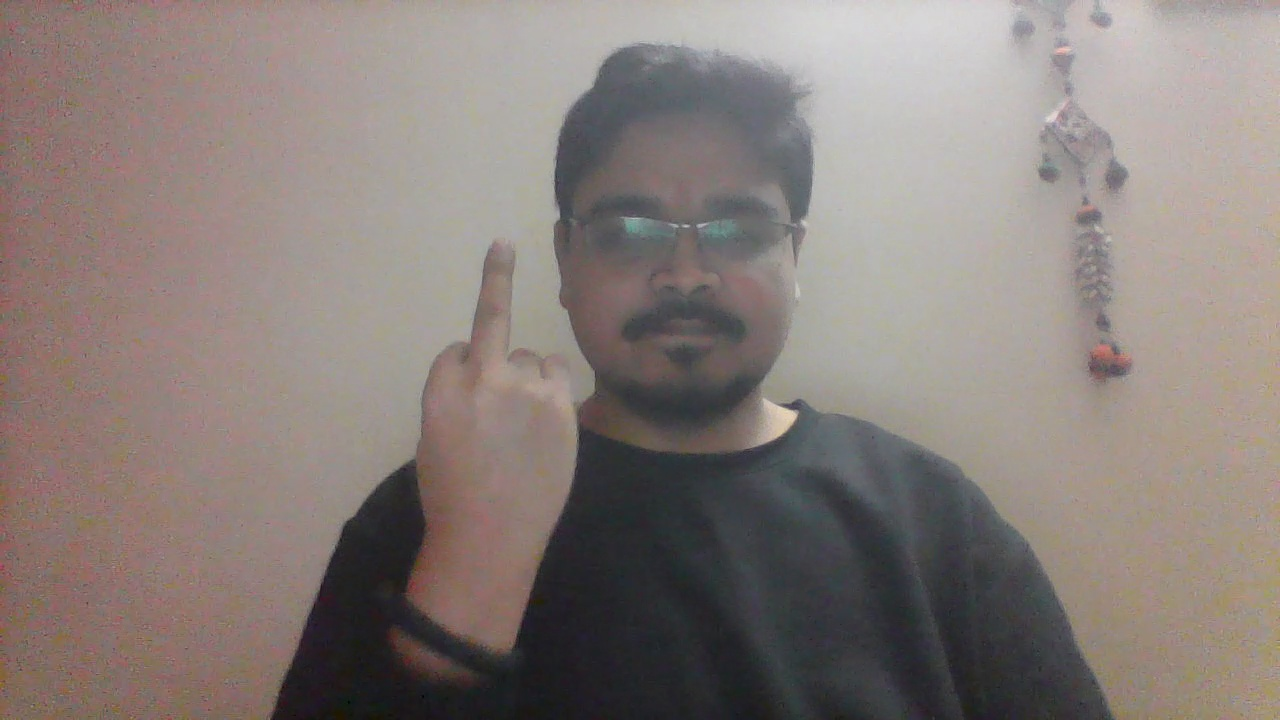Fuck Off: (412, 229, 576, 598)
